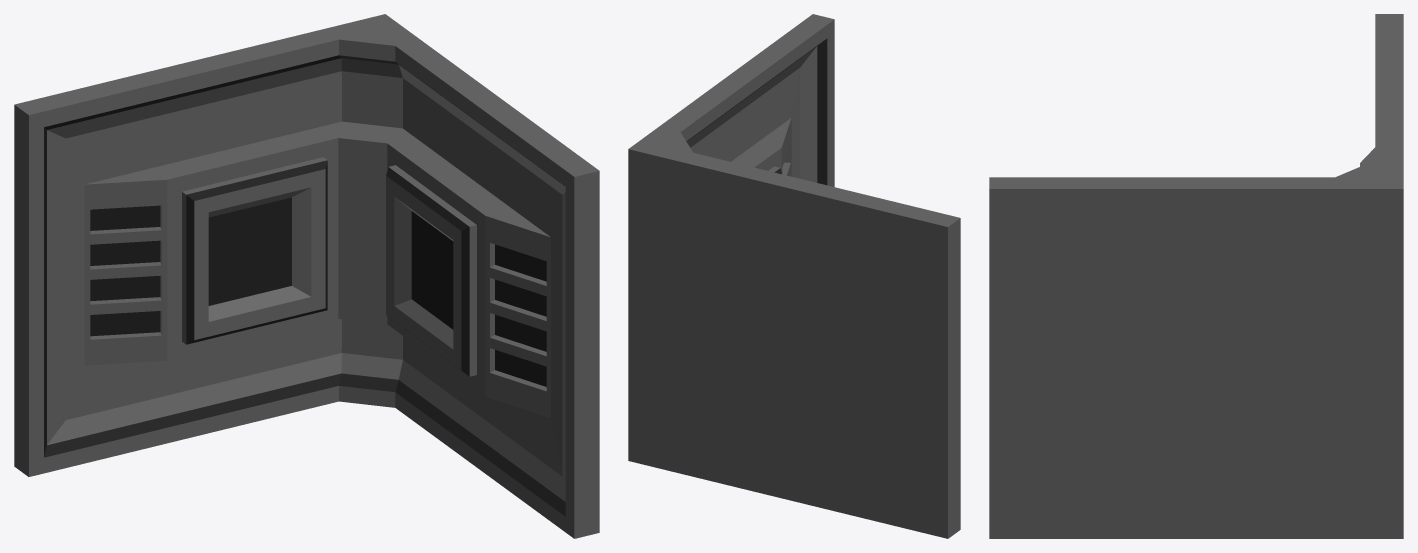
File: Wall_Corner_1.fbx
The picture shows the model from 3 angles, left to right: view 1: azimuth 30°, elevation 25°; view 2: azimuth 150°, elevation 25°; view 3: azimuth 270°, elevation 25°; orthographic projection. The views are drawn at different scales.
Parts seen in each view (by area): view 1: Wall_Corner.001; view 2: Wall_Corner.001; view 3: Wall_Corner.001.
Boxes of the visible parts, x1,y1,x2,y2 form: Wall_Corner.001: [14, 14, 599, 538]; Wall_Corner.001: [628, 14, 960, 538]; Wall_Corner.001: [989, 14, 1403, 538].
Bounding box in the file's own units: 215 × 200 × 215.
